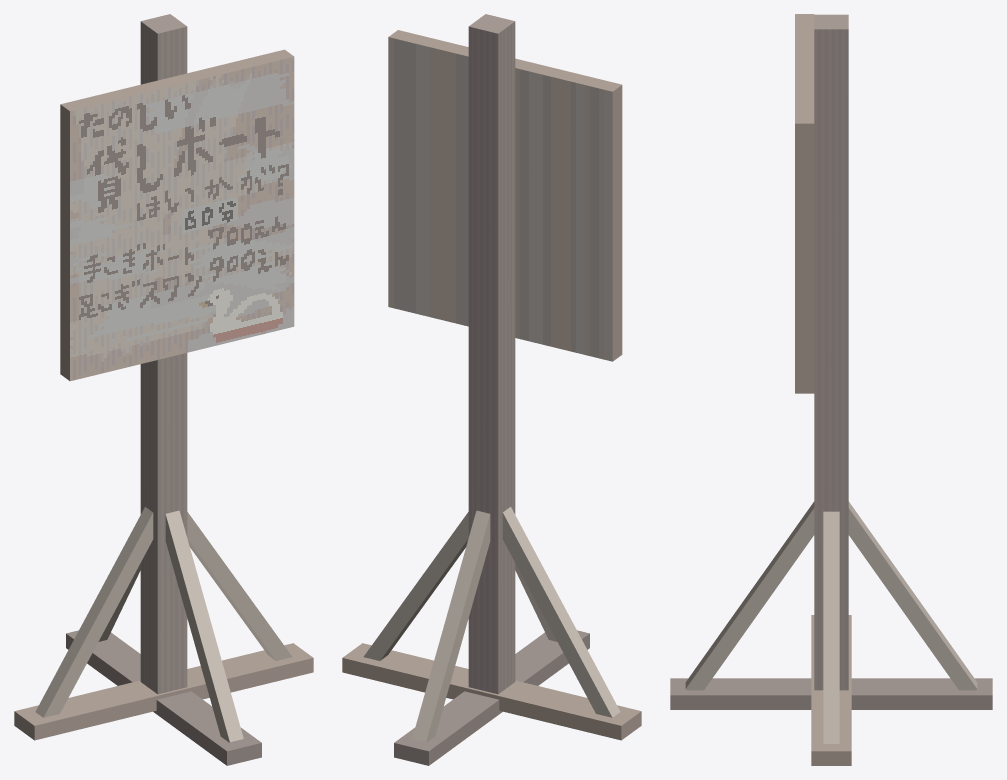
The model's file is 02b1_Boat_Rental_Sign.glb.
3 renders of one model, left to right at view 1: azimuth 30°, elevation 25°; view 2: azimuth 150°, elevation 25°; view 3: azimuth 270°, elevation 25°, orthographic.
Visible parts, largest first — view 1: part_0; view 2: part_0; view 3: part_0.
Boxes of the visible parts, x1,y1,x2,y2 form: part_0: (14,14,313,765); part_0: (342,14,641,765); part_0: (670,14,992,765).
Bounding box in the file's own units: 0.8 × 1.86 × 0.8.
1 material, 1 textured.
